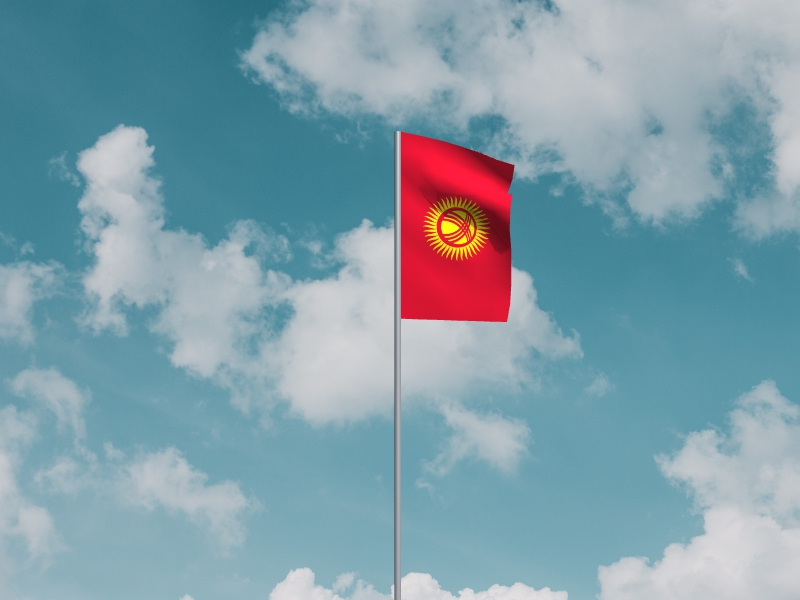kg: (402, 132, 516, 324)
